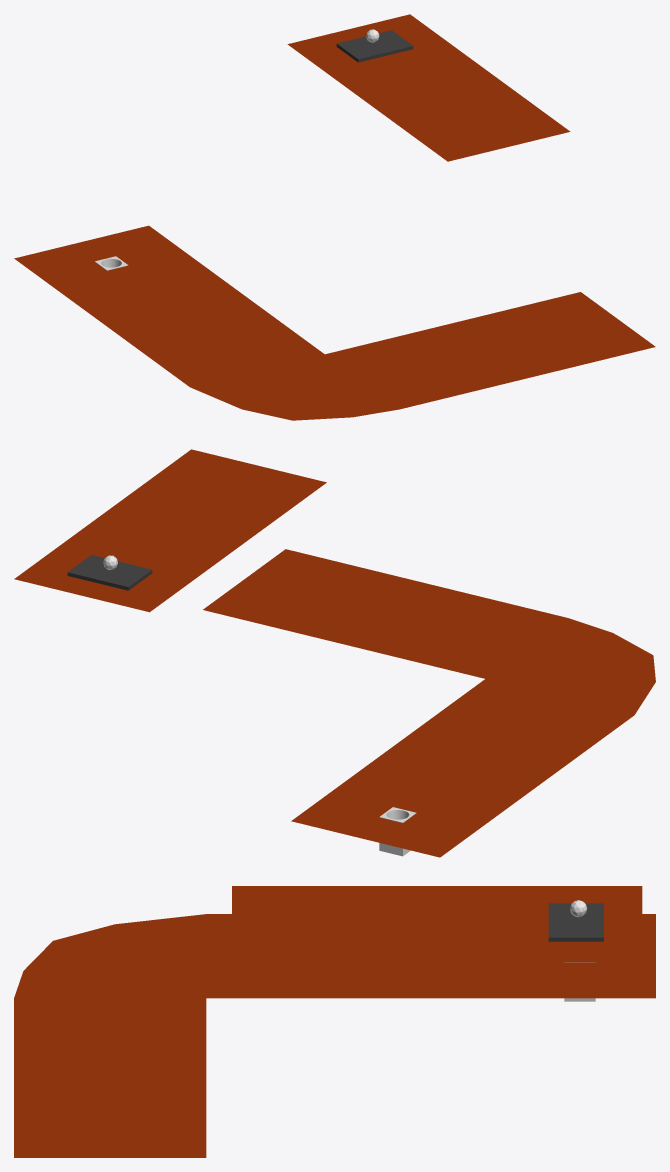
File: boilerplate_level_13.glb
3 views of the same model, one above another, from view 1: azimuth 30°, elevation 25°; view 2: azimuth 150°, elevation 25°; view 3: azimuth 270°, elevation 25° (orthographic). The views are drawn at different scales.
Parts seen in each view (by area): view 1: Plane, Start; view 2: Plane, Start, Cup; view 3: Plane, Start.
Boxes of the visible parts, box(x1,y1,x2,y2) form: Plane: box(14, 14, 655, 420); Start: box(336, 30, 413, 62); Plane: box(14, 449, 655, 857); Start: box(67, 555, 152, 590); Cup: box(379, 807, 416, 856); Plane: box(14, 886, 655, 1157); Start: box(548, 903, 603, 941).
Bounding box in the file's own units: 55.9 × 27.45 × 62.2.
